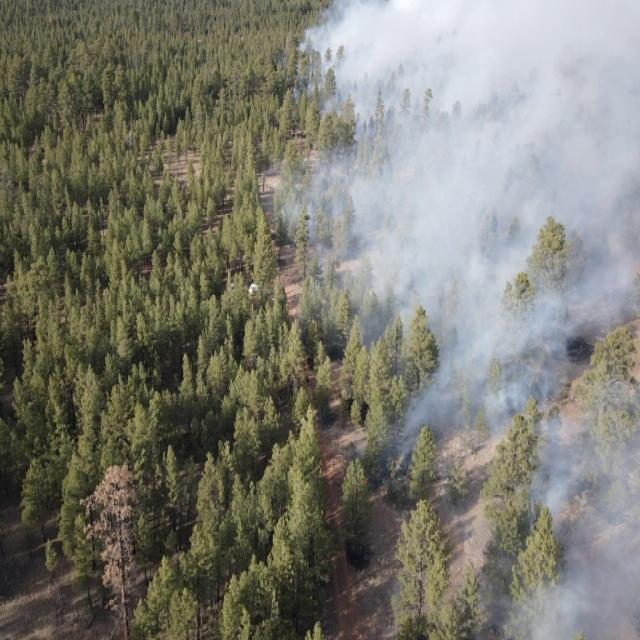smoke: (289, 0, 639, 426), (386, 424, 640, 640)
